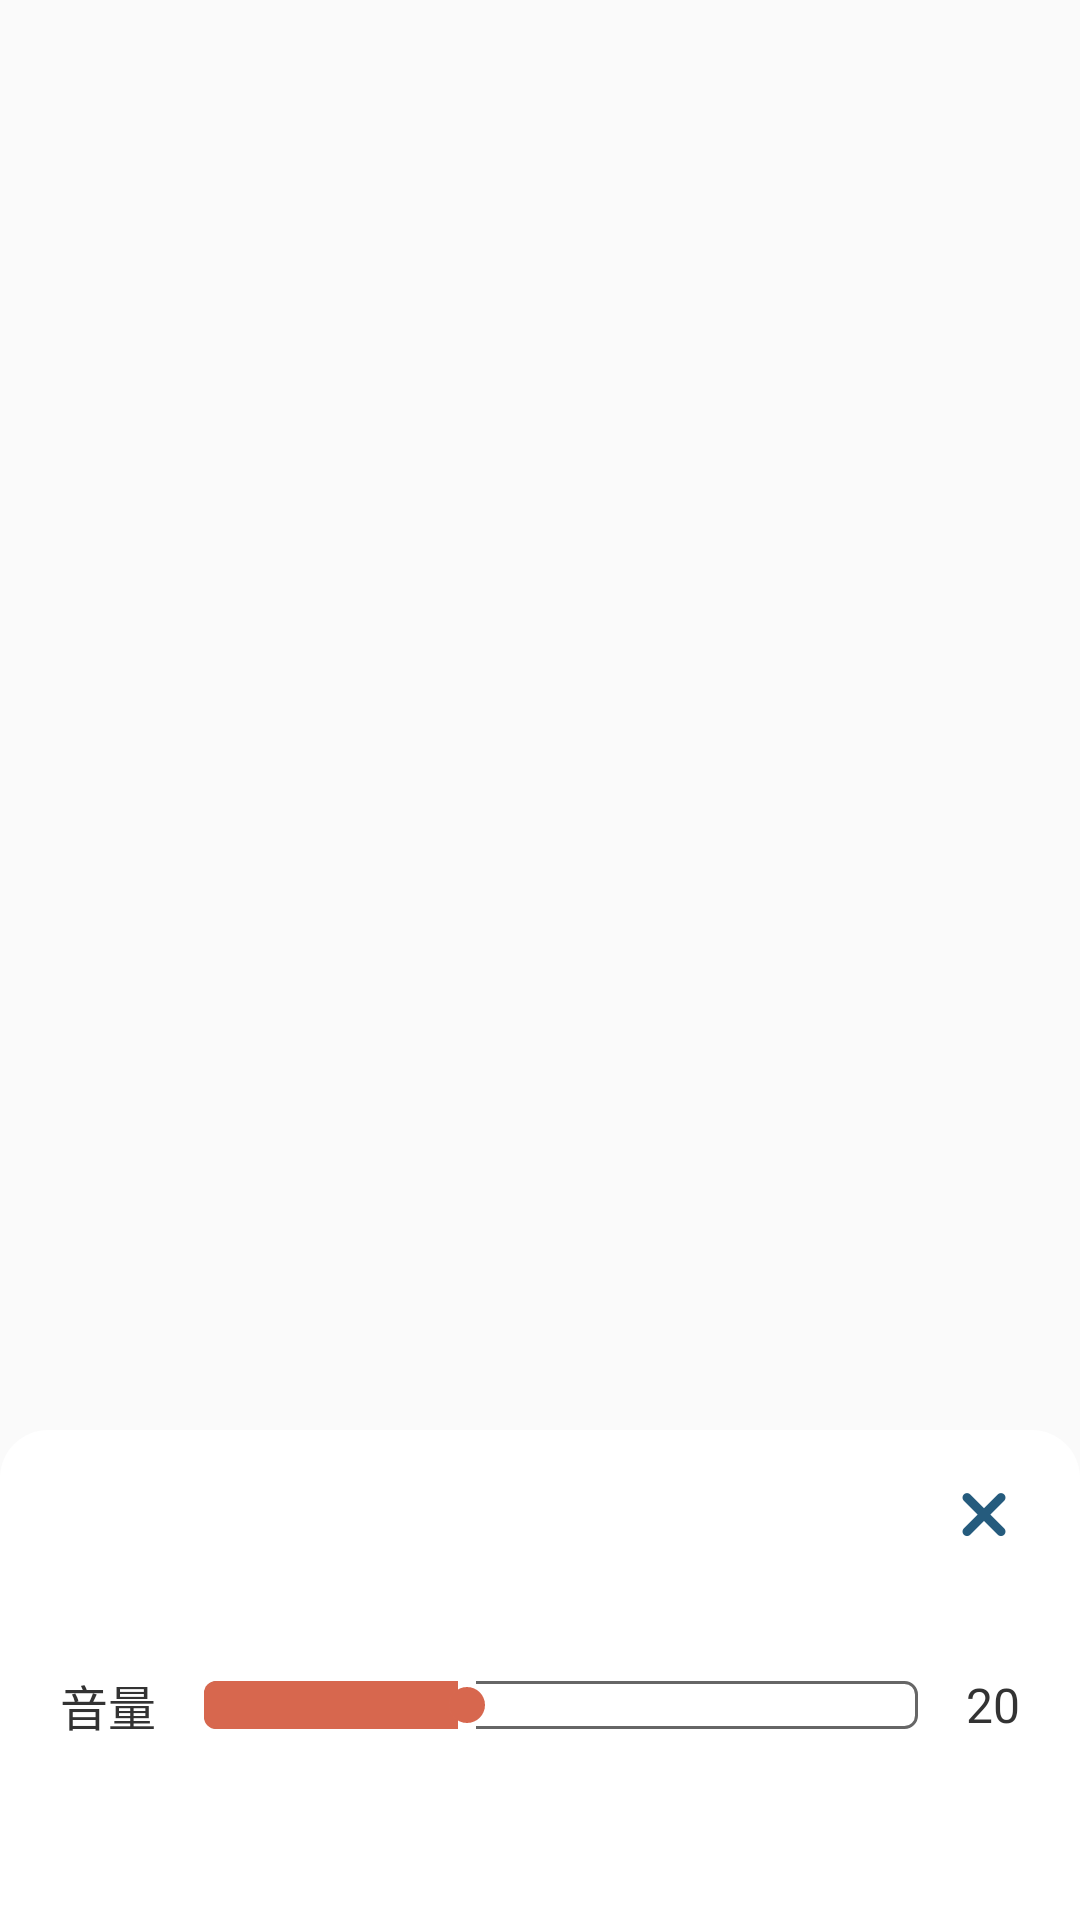

Screen size 1080w x 1920h. Icon name, then its box in pixels as (x1, y1, x2, y2):
shout close: (962, 1493, 1006, 1536)
